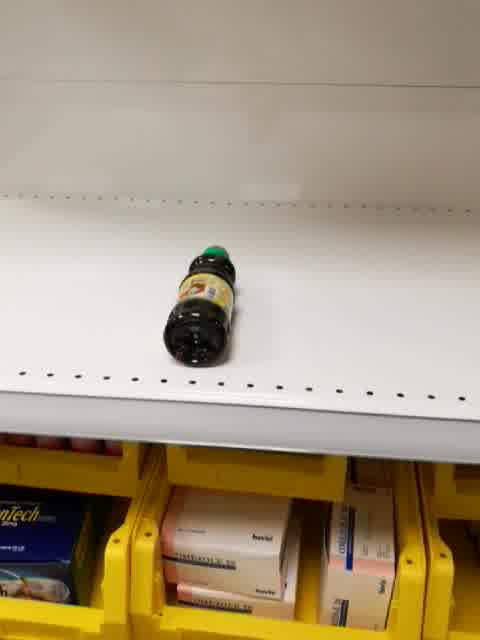cookingoil: (164, 246, 238, 369)
